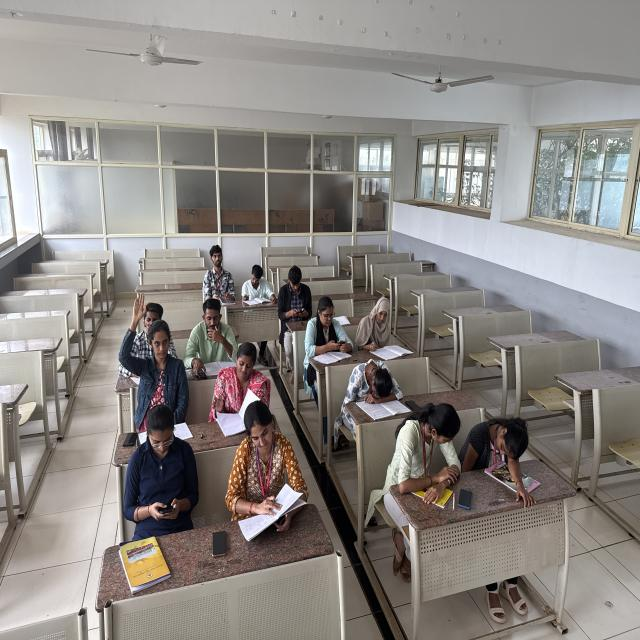Hand Rising: (112, 293, 186, 411)
Reading: (222, 396, 312, 533), (214, 343, 274, 427)
Sleeping: (462, 408, 537, 498), (345, 355, 406, 404)
Using Phone: (122, 410, 207, 534), (304, 298, 352, 366), (277, 262, 317, 330)
Writing: (357, 294, 414, 357), (237, 257, 280, 310)
